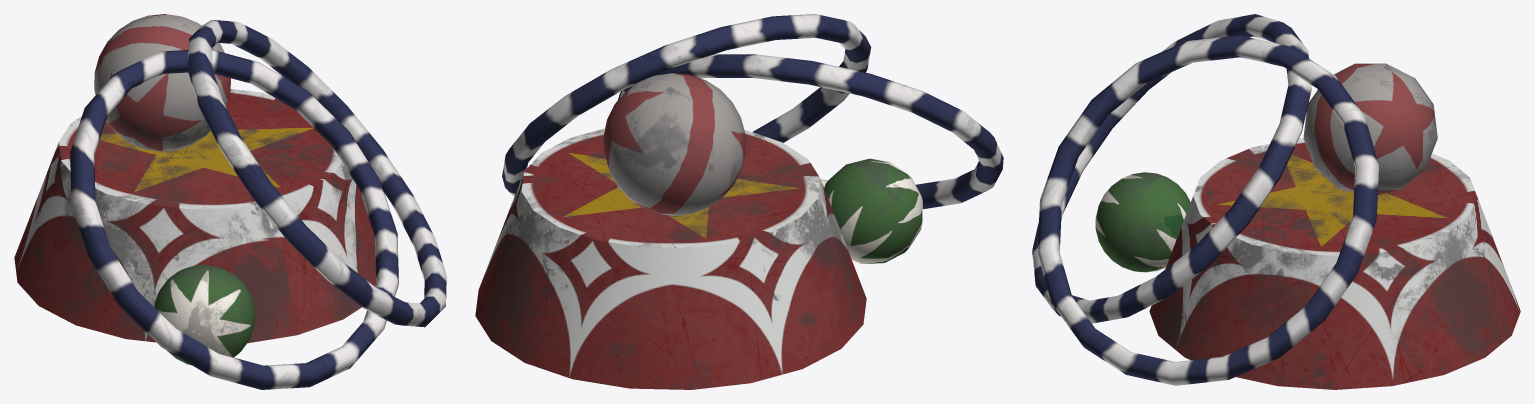
File: props.obj
The picture shows the model from 3 angles, left to right: view 1: azimuth 30°, elevation 25°; view 2: azimuth 150°, elevation 25°; view 3: azimuth 270°, elevation 25°; orthographic projection. The views are drawn at different scales.
Visible parts, largest first — view 1: CircusProps_Model_lambert1_0; view 2: CircusProps_Model_lambert1_0; view 3: CircusProps_Model_lambert1_0.
Part boxes in pixels (x1,y1,x2,y2): CircusProps_Model_lambert1_0: (14,14,446,389); CircusProps_Model_lambert1_0: (475,14,1003,389); CircusProps_Model_lambert1_0: (1032,14,1520,389).
Size of the model in its own units: 1.06 by 0.6675 by 1.16.
Materials: 1 (1 with a texture image).
